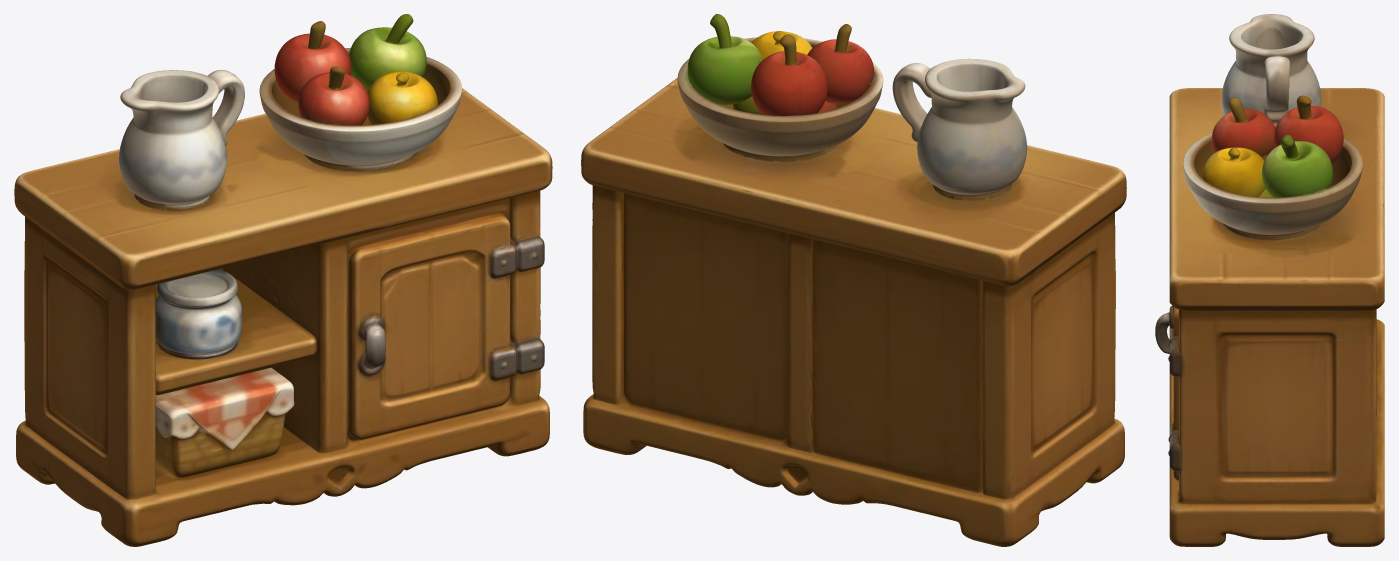
The model's file is Wooden_Cabinet.glb.
The picture shows the model from 3 angles, left to right: view 1: azimuth 30°, elevation 25°; view 2: azimuth 150°, elevation 25°; view 3: azimuth 270°, elevation 25°; orthographic projection. The views are drawn at different scales.
Visible parts, largest first — view 1: node_0; view 2: node_0; view 3: node_0.
Boxes of the visible parts, x1=… form: node_0: x1=14, y1=14, x2=552, y2=546; node_0: x1=581, y1=14, x2=1126, y2=546; node_0: x1=1155, y1=14, x2=1384, y2=546.
Size of the model in its own units: 0.8553 by 0.7855 by 0.4284.
Materials: 1 (1 with a texture image).
